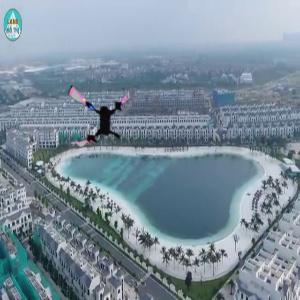drone: (59, 77, 137, 155)
